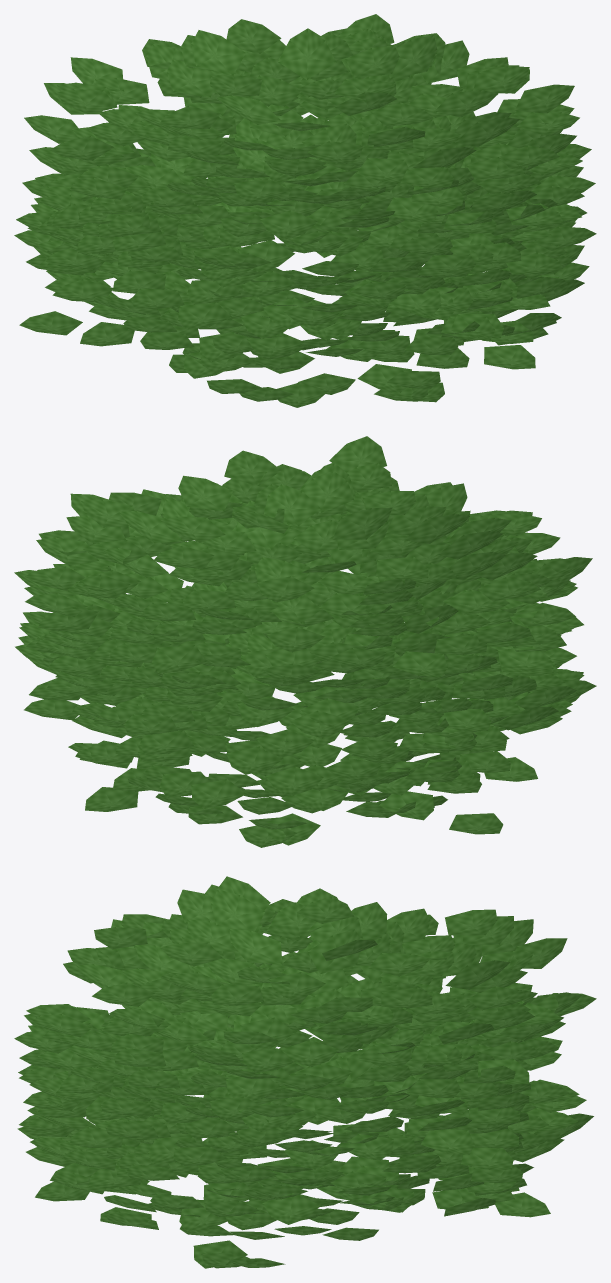
File: garden_shrub.glb
3 renders of one model, top to bottom at view 1: azimuth 30°, elevation 25°; view 2: azimuth 150°, elevation 25°; view 3: azimuth 270°, elevation 25°, orthographic.
Visible parts, largest first — view 1: garden_shrub_Foliage; view 2: garden_shrub_Foliage; view 3: garden_shrub_Foliage.
Part boxes in pixels (box(x1,y1,x2,y2)): garden_shrub_Foliage: box(14, 14, 596, 407); garden_shrub_Foliage: box(14, 436, 596, 847); garden_shrub_Foliage: box(14, 876, 596, 1268).
Size of the model in its own units: 1.79 by 0.823 by 1.79.
1 material, 1 textured.
